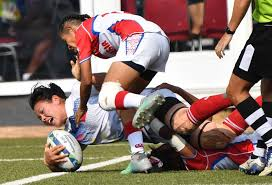fall: (26, 74, 271, 168)
